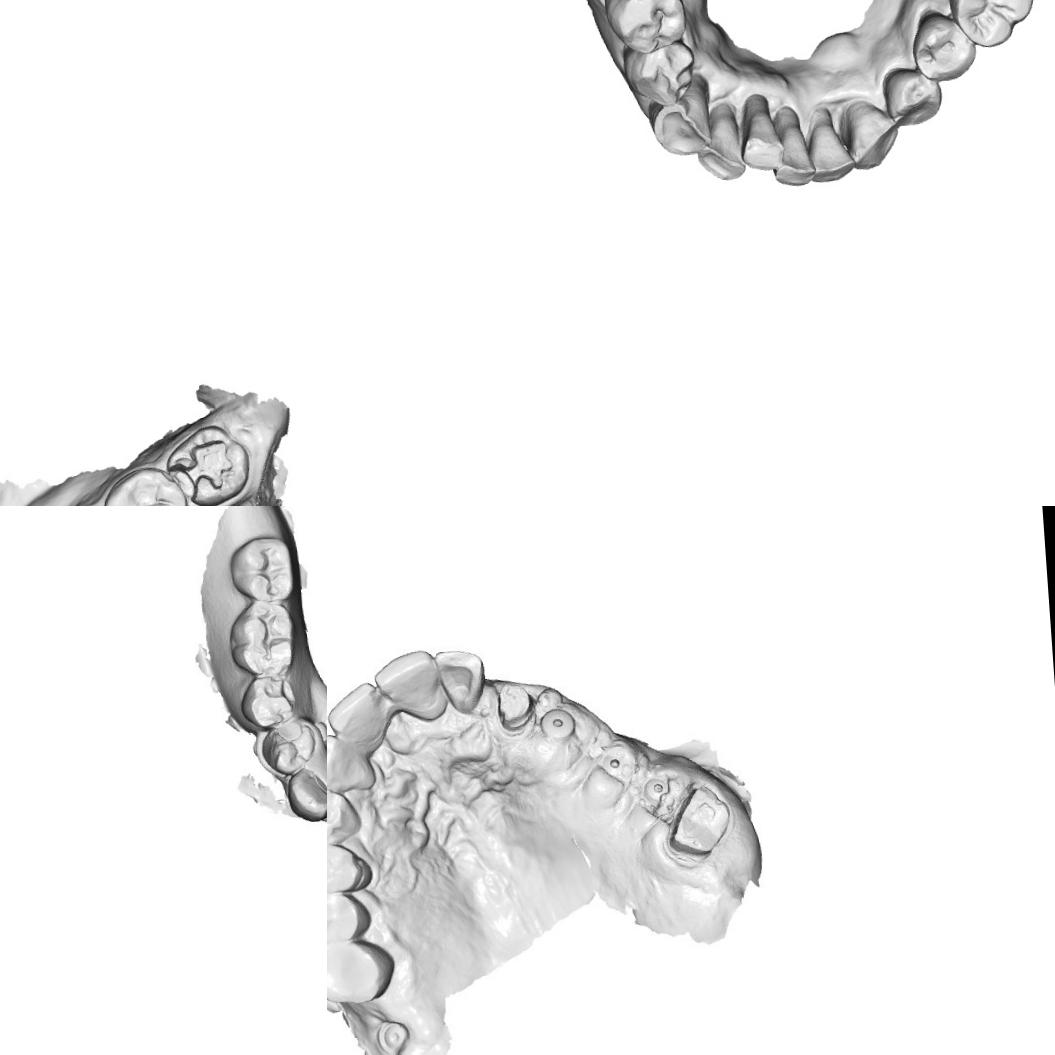canine: (651, 84, 714, 162), (840, 94, 900, 172), (288, 759, 327, 822), (327, 787, 363, 845)
crown: (664, 781, 737, 860), (490, 676, 542, 730)
implant: (592, 740, 640, 782), (637, 768, 680, 806), (375, 1018, 411, 1054), (542, 706, 574, 739)
incisor: (368, 642, 446, 718), (327, 679, 390, 749), (695, 111, 749, 186), (805, 110, 853, 184), (434, 648, 486, 714), (768, 118, 816, 188), (739, 100, 782, 172), (327, 729, 371, 795)
inlay: (164, 436, 235, 502)
molar: (225, 598, 296, 675), (327, 933, 397, 1009), (941, 0, 1040, 50), (222, 538, 292, 600), (99, 462, 192, 506)
premolar: (907, 8, 982, 86), (621, 40, 699, 109), (607, 0, 691, 57), (880, 62, 945, 129), (243, 672, 295, 725), (263, 716, 316, 766), (327, 888, 369, 947), (327, 839, 368, 897)
